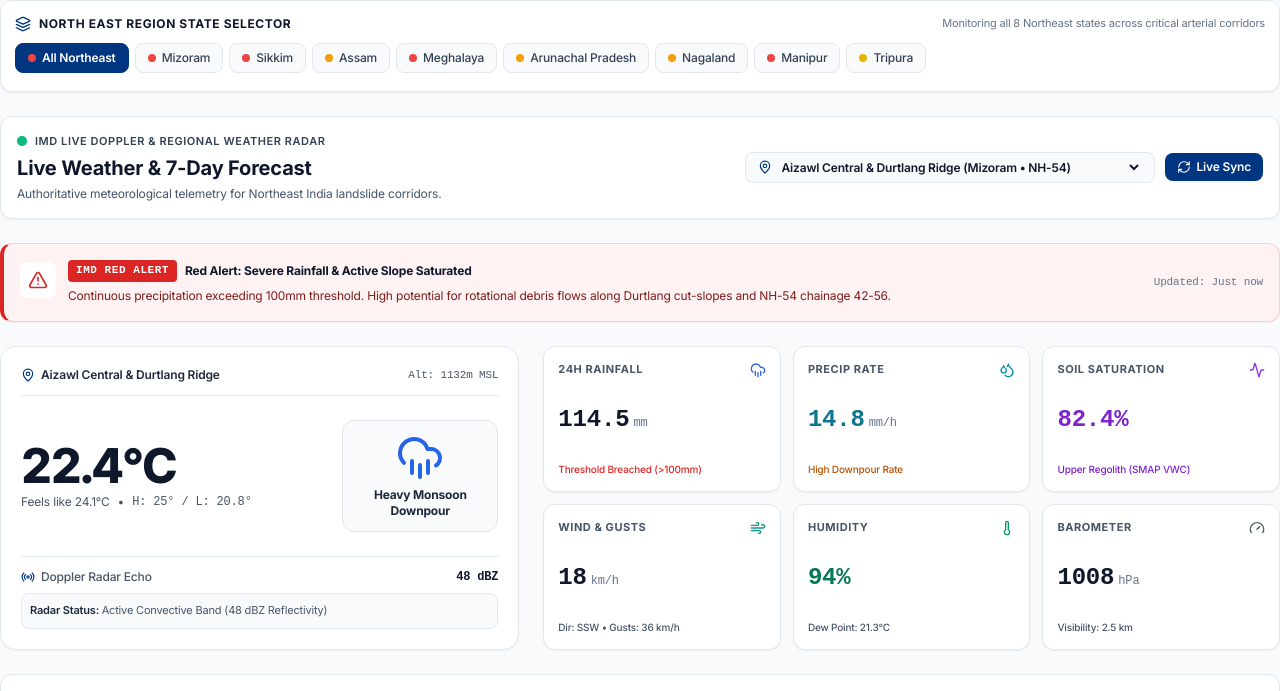
Test: Live Weather & 7-Day Forecasting Telemetry › allows switching weather stations to Sikkim (Gangtok NH-10)
This screenshot has width=1280, height=691.
Select "Gangtok & Teesta Chute (Sikkim • NH-10)" in the dropdown named "Select Weather Station" at (960, 167), box [778,159,1142,176]
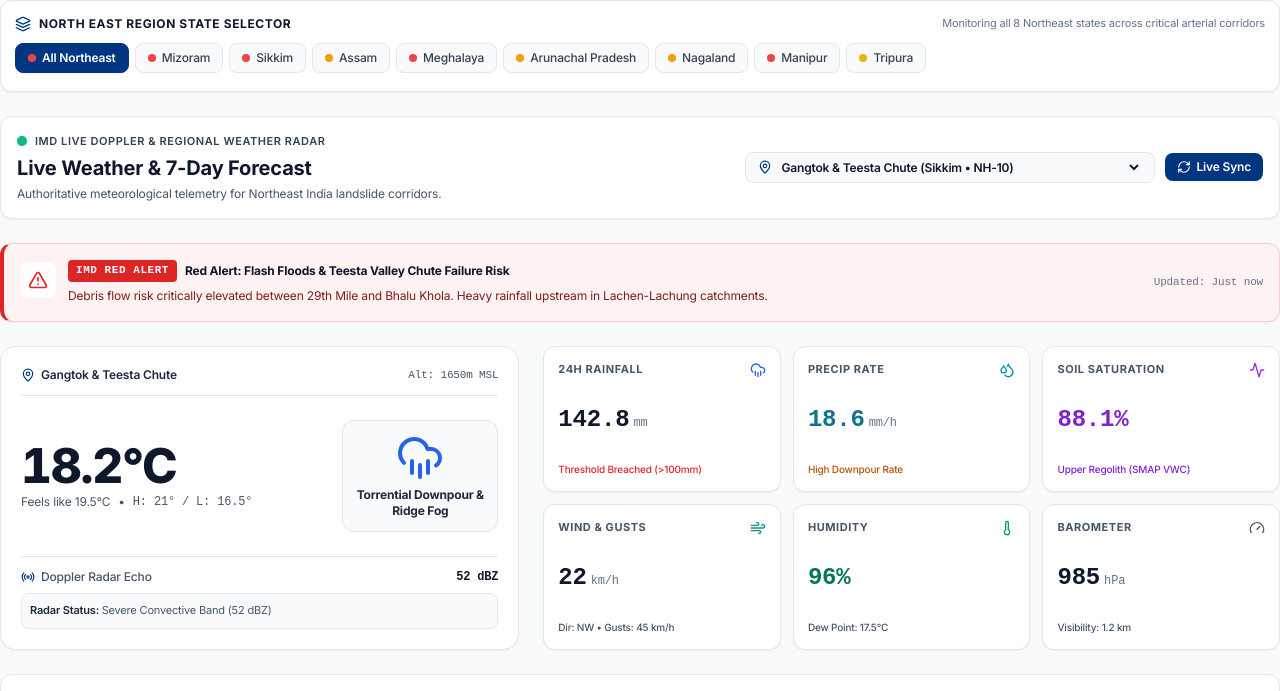
Result: the text "Alt: 1650m MSL" is shown at [408,367,498,383]
Result: the text "142.8mm" is shown at [558,406,648,433]
Result: the text "Red Alert: Flash Floods & Teesta Valley Chute Failure Risk" is shown at [185,263,510,279]
